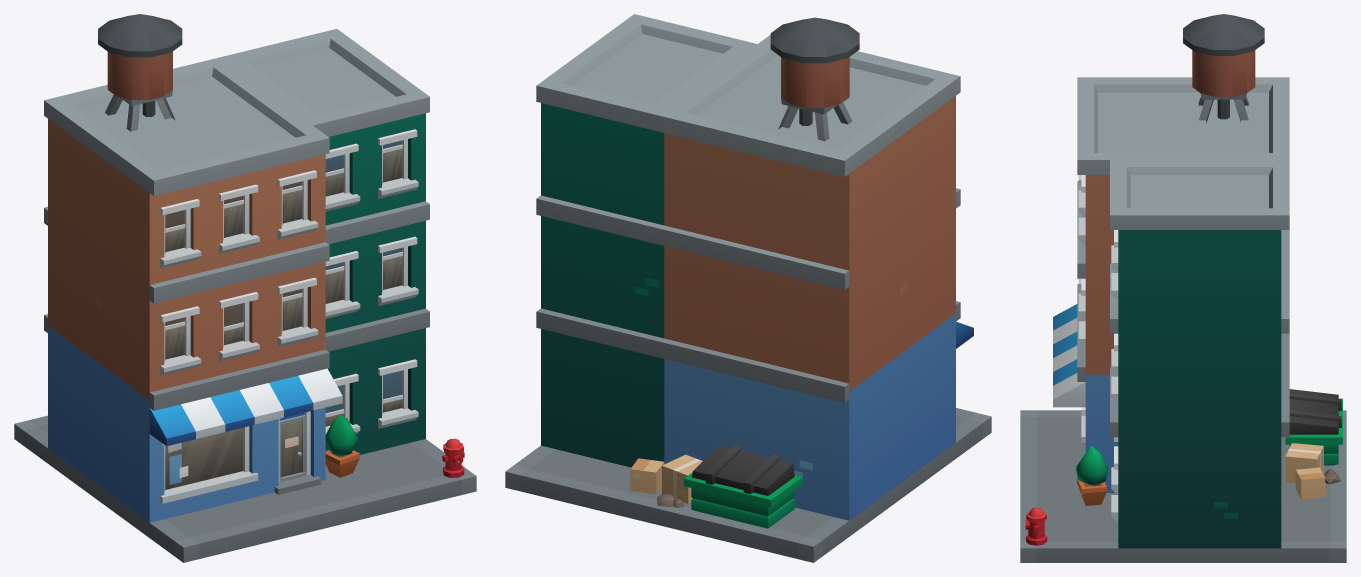
Rendered from Building-bbH2Bg73qM.glb.
3 renders of one model, left to right at view 1: azimuth 30°, elevation 25°; view 2: azimuth 150°, elevation 25°; view 3: azimuth 270°, elevation 25°, orthographic. The views are drawn at different scales.
Visible parts, largest first — view 1: building_G; view 2: building_G; view 3: building_G.
Boxes of the visible parts, <box> form: building_G: <box>14,14,476,562</box>; building_G: <box>505,14,991,562</box>; building_G: <box>1020,14,1346,562</box>.
Size of the model in its own units: 2.01 by 2.98 by 2.
Materials: 1 (1 with a texture image).
